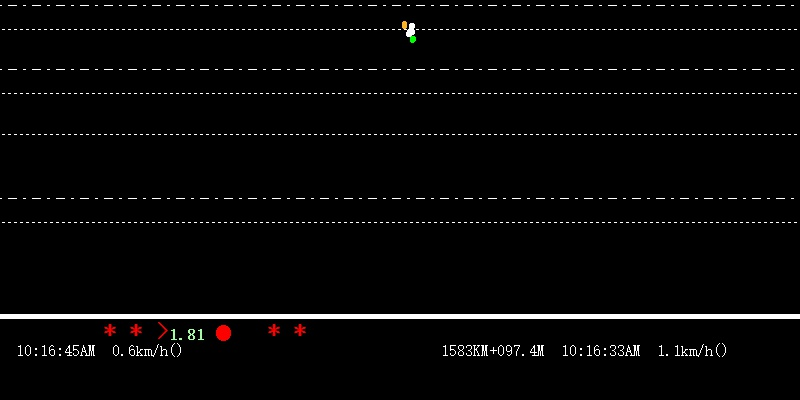circle: (214, 325, 230, 342)
face_2: (401, 17, 415, 37)
star: (263, 321, 283, 339), (291, 319, 307, 339), (101, 322, 116, 338), (130, 320, 144, 337)
